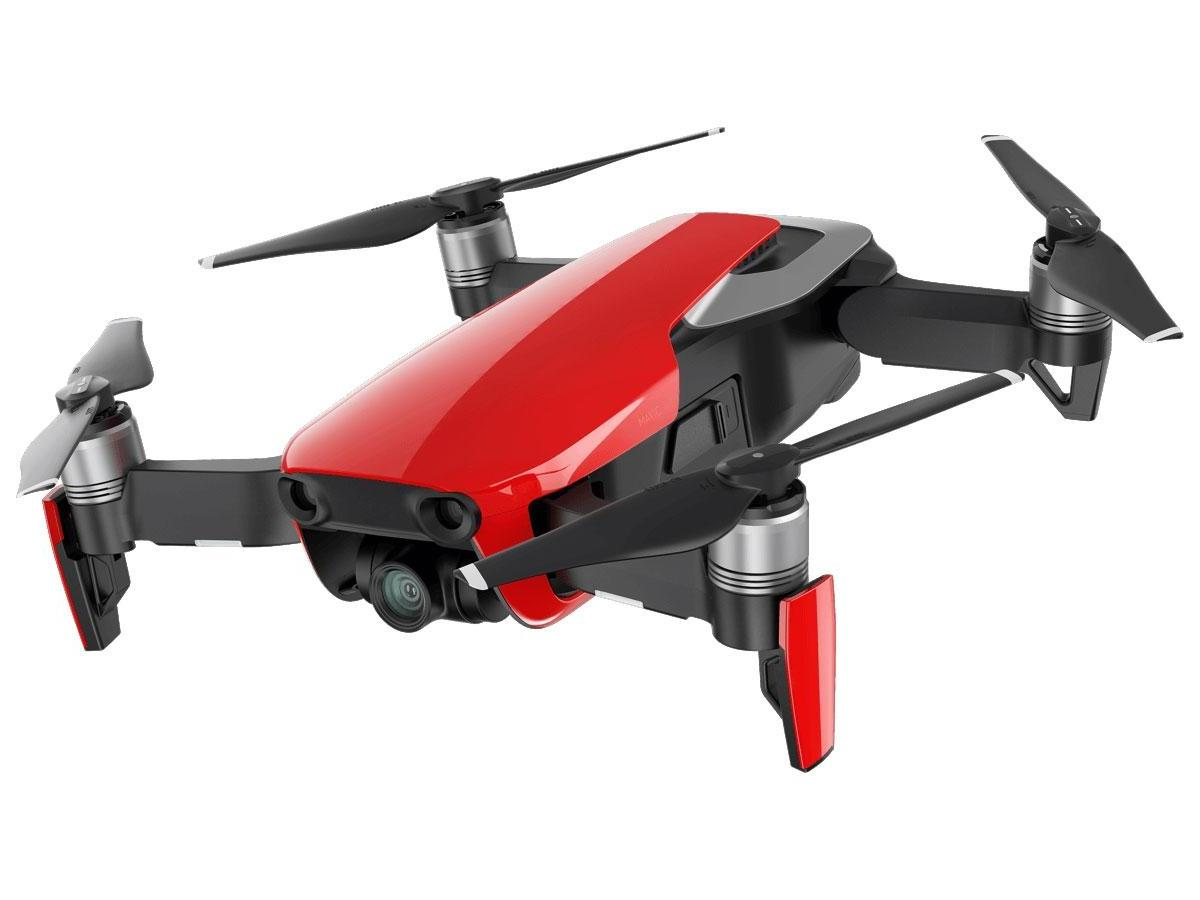drone: (11, 118, 1190, 785)
